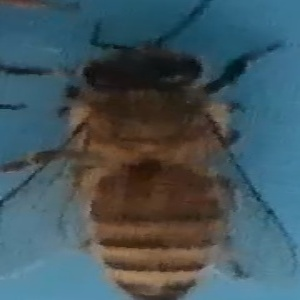bee: (13, 21, 287, 300)
